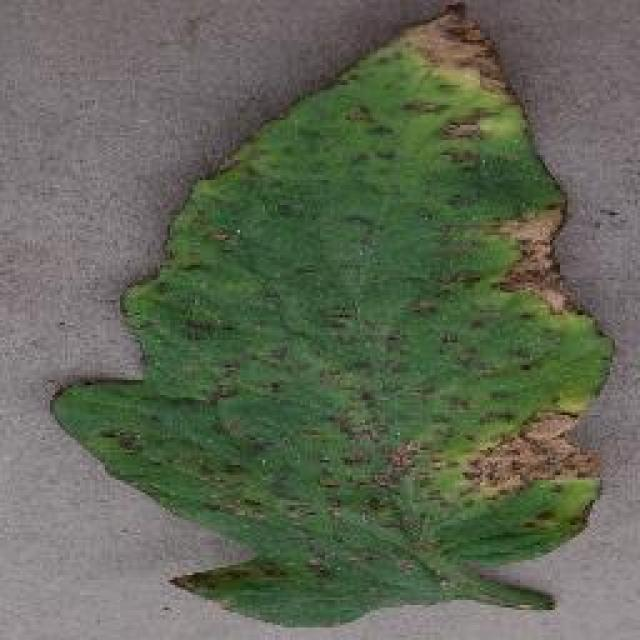Tomato bacterial spot leaf: (56, 6, 612, 632)
